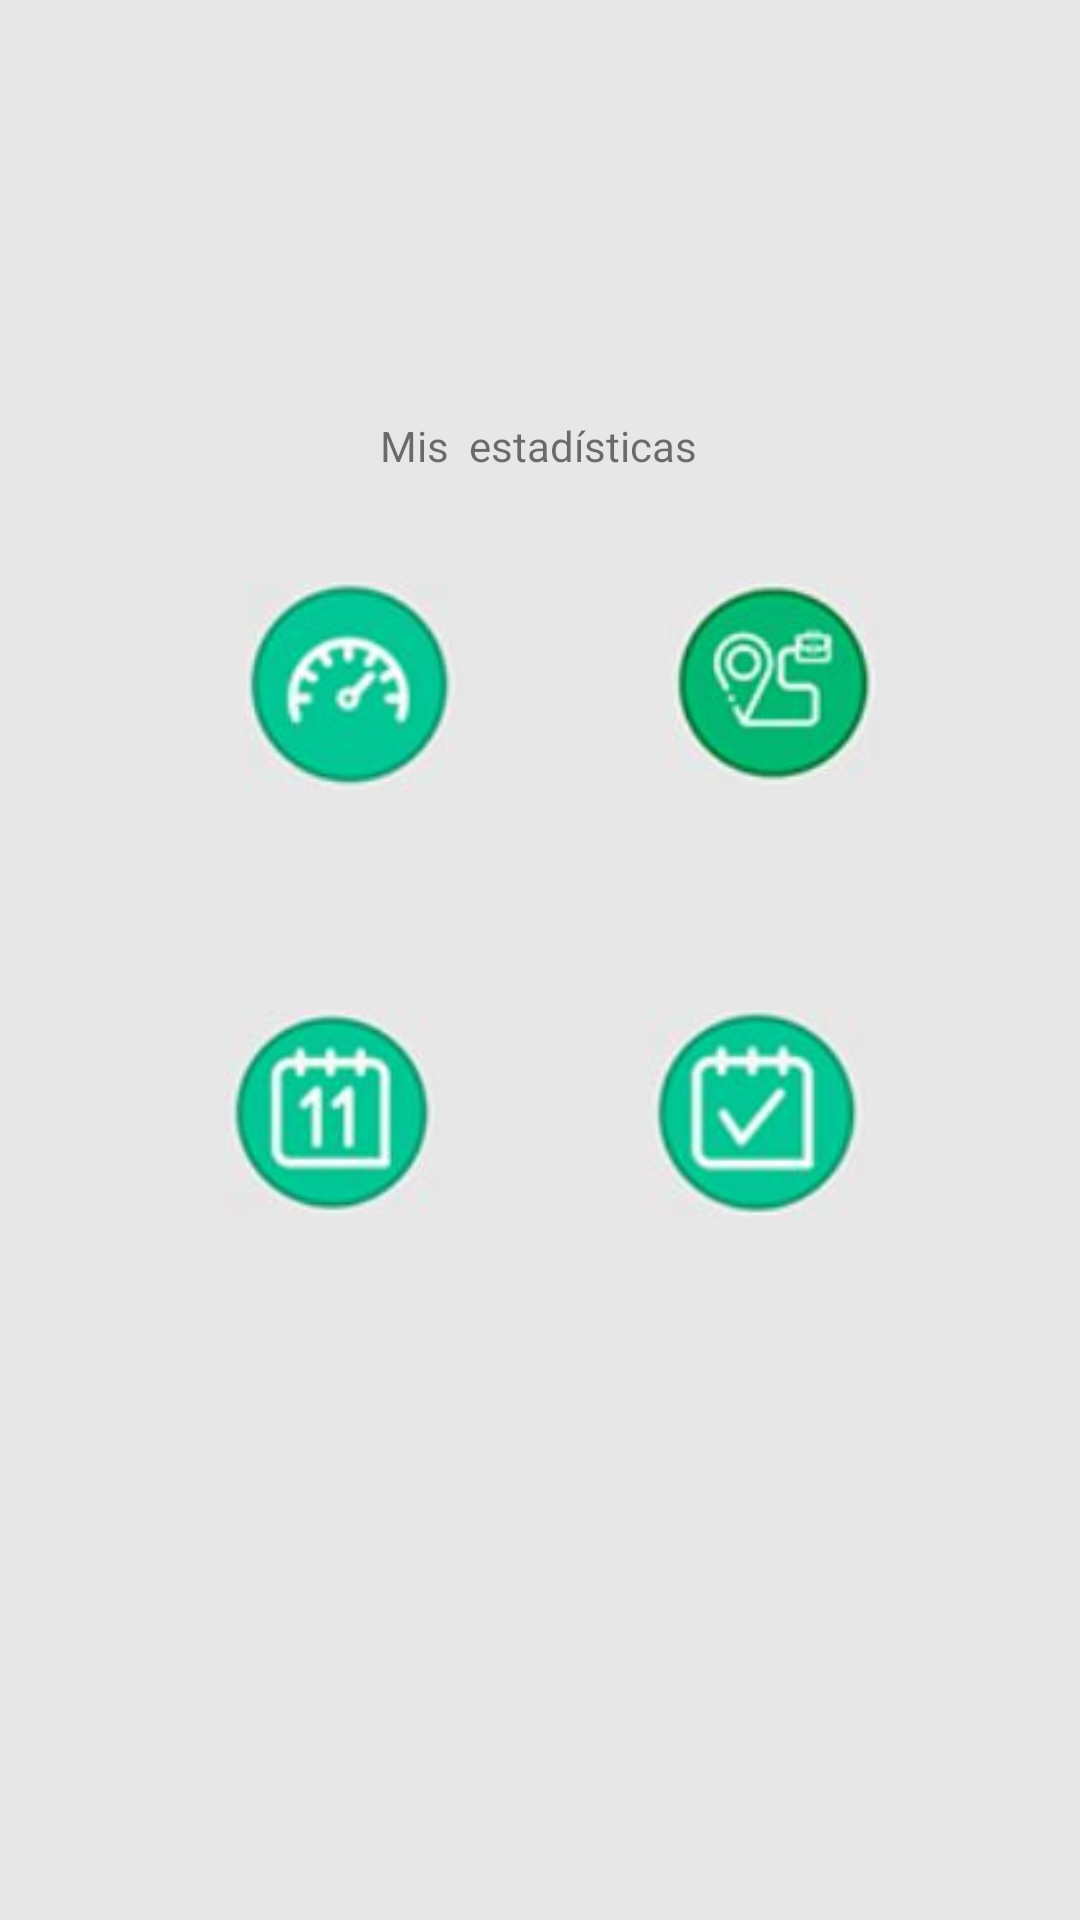

Icons on this 1080w x 1920h Android screen, each with the point to tap as (x=x, y=y):
dias compensados: (x=757, y=1112)
dias compensar: (x=331, y=1112)
total kms: (x=349, y=684)
viajes trabajo: (x=773, y=683)
